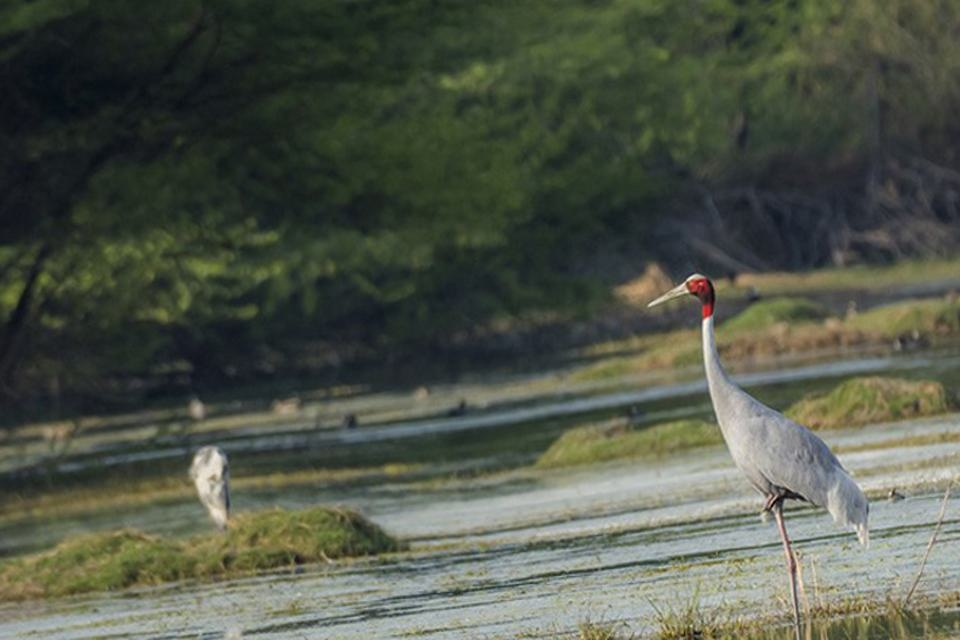crane: (643, 263, 878, 618)
